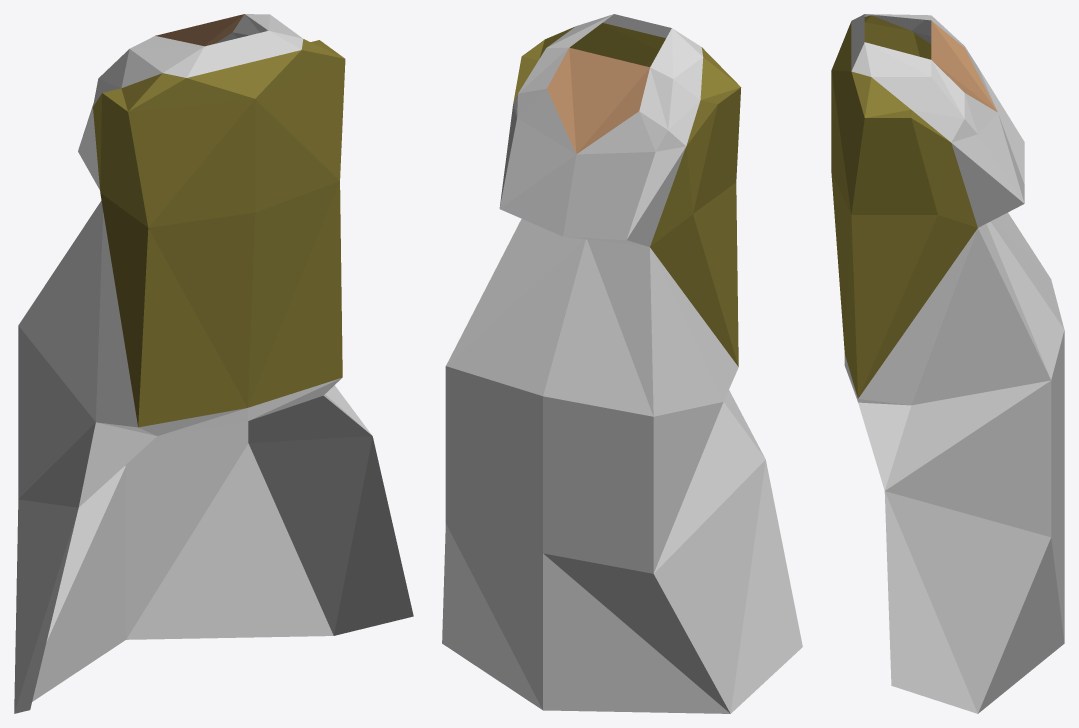
File: npc_world_louisa_1.obj
3 views of the same model, side by side, from view 1: azimuth 30°, elevation 25°; view 2: azimuth 150°, elevation 25°; view 3: azimuth 270°, elevation 25° (orthographic). The views are drawn at different scales.
Bounding box in the file's own units: 0.4688 × 0.7969 × 0.2734.
